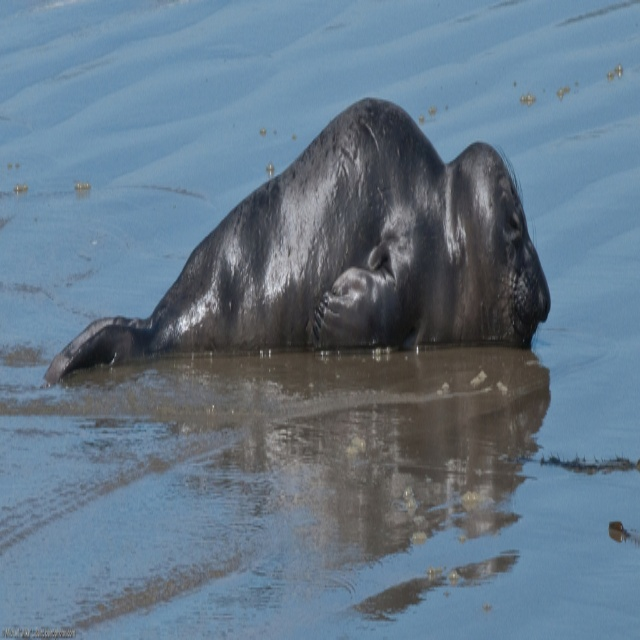Sea lion: (42, 94, 552, 382)
